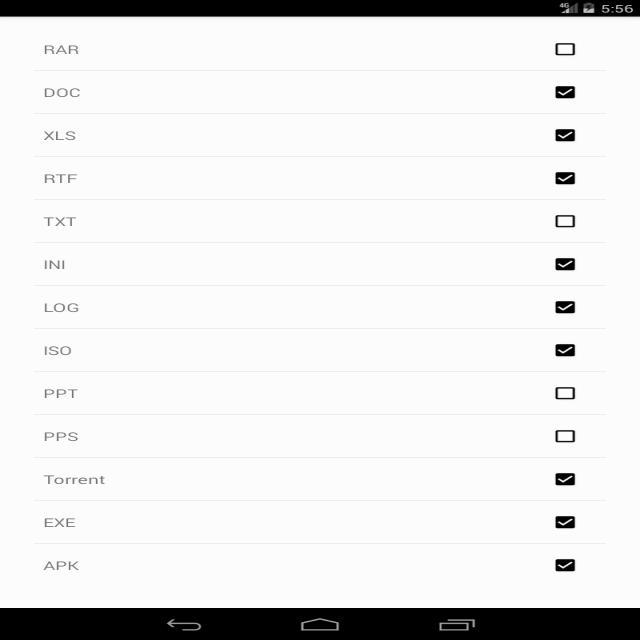CheckBox: (543, 78, 585, 103), (546, 381, 586, 404), (543, 253, 580, 277), (550, 509, 586, 533), (550, 552, 586, 576), (548, 36, 586, 58), (550, 123, 582, 149), (550, 168, 586, 190), (550, 423, 580, 446)
TextView: (35, 469, 128, 492), (33, 384, 102, 406), (36, 208, 90, 232), (38, 40, 94, 60), (32, 555, 90, 574), (33, 297, 87, 317), (37, 125, 88, 145)
